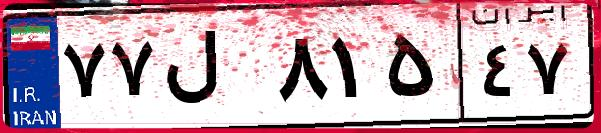1: (330, 28, 385, 110)
4: (475, 38, 525, 113)
5: (385, 28, 445, 110)
7: (57, 26, 110, 100), (525, 38, 570, 115), (110, 28, 158, 98)
8: (270, 28, 330, 110)
ل: (158, 20, 270, 120)
